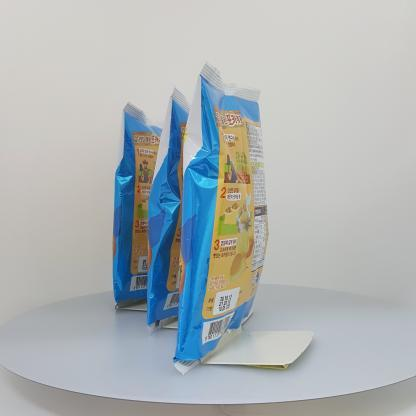Plastic Packaging: (172, 62, 272, 372)
